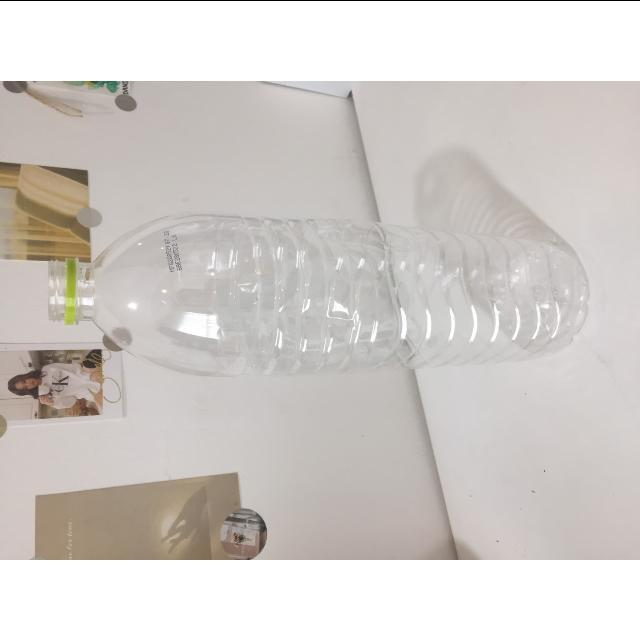PET Bottle: (52, 199, 640, 410)
